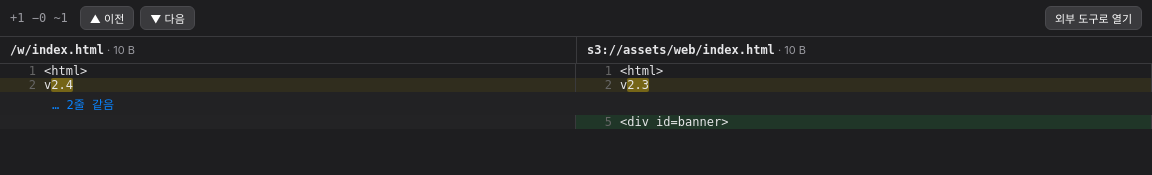
Test: upload/download buttons hidden for local↔local; external tool errors are shown
Check: the text "2.4" is shown, box [51,78,73,92]
Click the button "외부 도구로 열기": coordinates (1094, 18) [1045,6,1142,30]
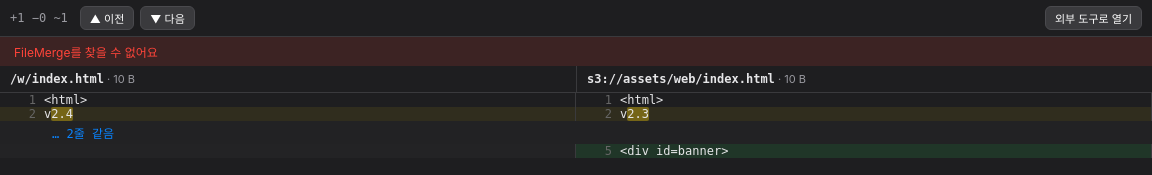
Check: the text "FileMerge를 찾을 수 없어요" is shown, box [0,37,1151,66]
